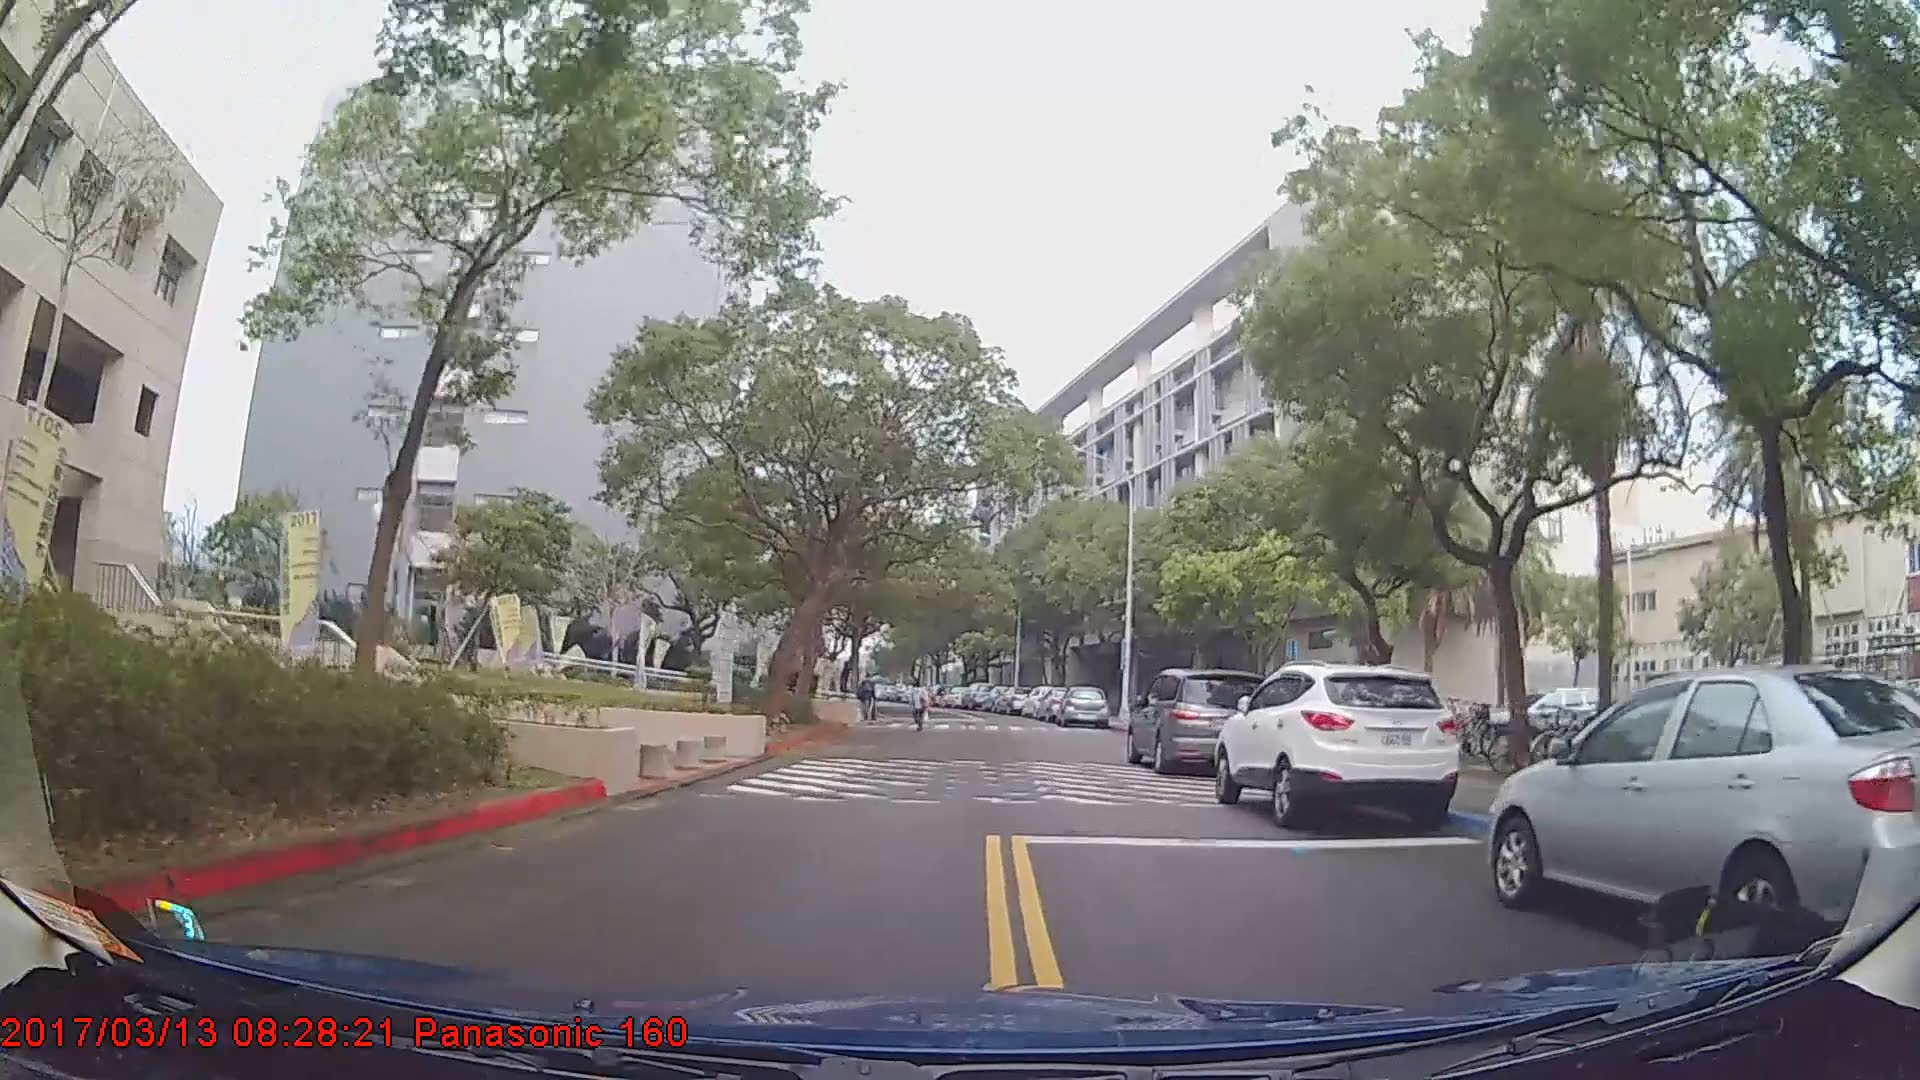pedestrian: (903, 679, 929, 733), (858, 673, 880, 724)
vehicle: (1490, 662, 1920, 950), (1214, 660, 1463, 833), (1125, 667, 1275, 772), (1058, 680, 1108, 728), (958, 680, 993, 710)
